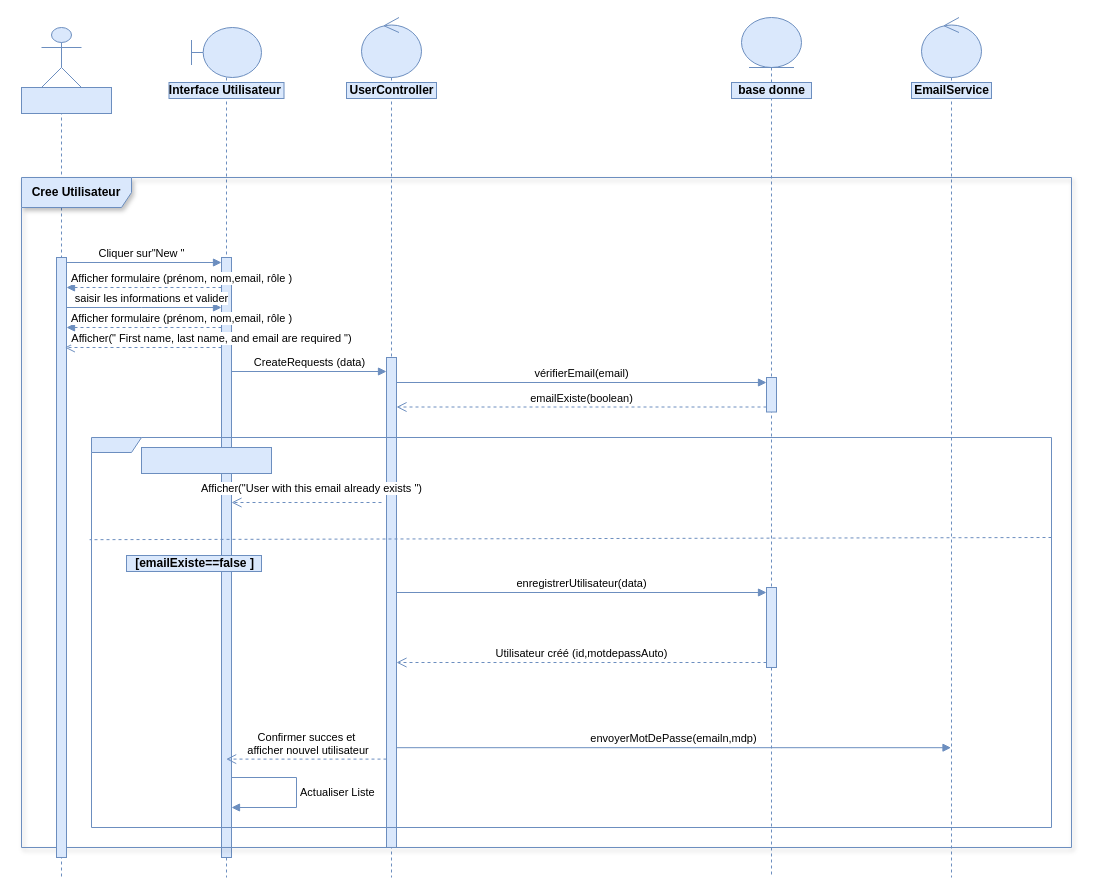
This 1095x895 diagram has some shape labels left out. The shapes that lost their labels are listed below. From the top down, each one's centre as x and y in pixels, then its label:
At point 66,100: "Administrateur".
At point 206,460: "[emailExiste==true ]".
At point 571,632: "alt".
